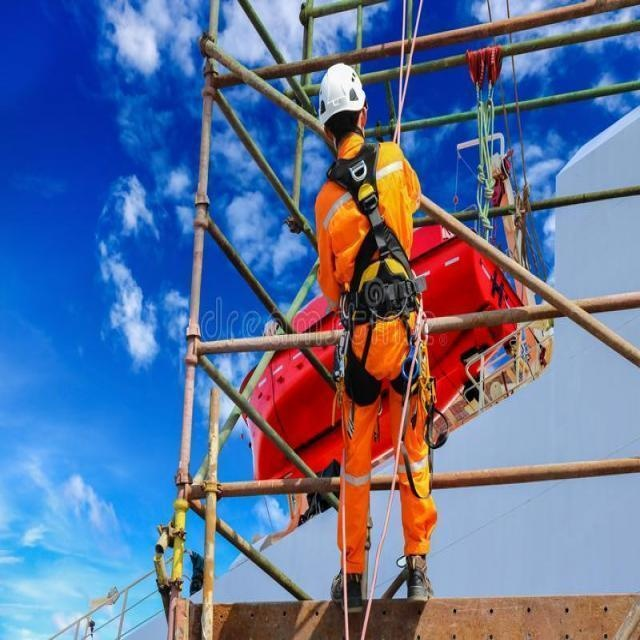Arnes_seguridad: (318, 140, 426, 419)
